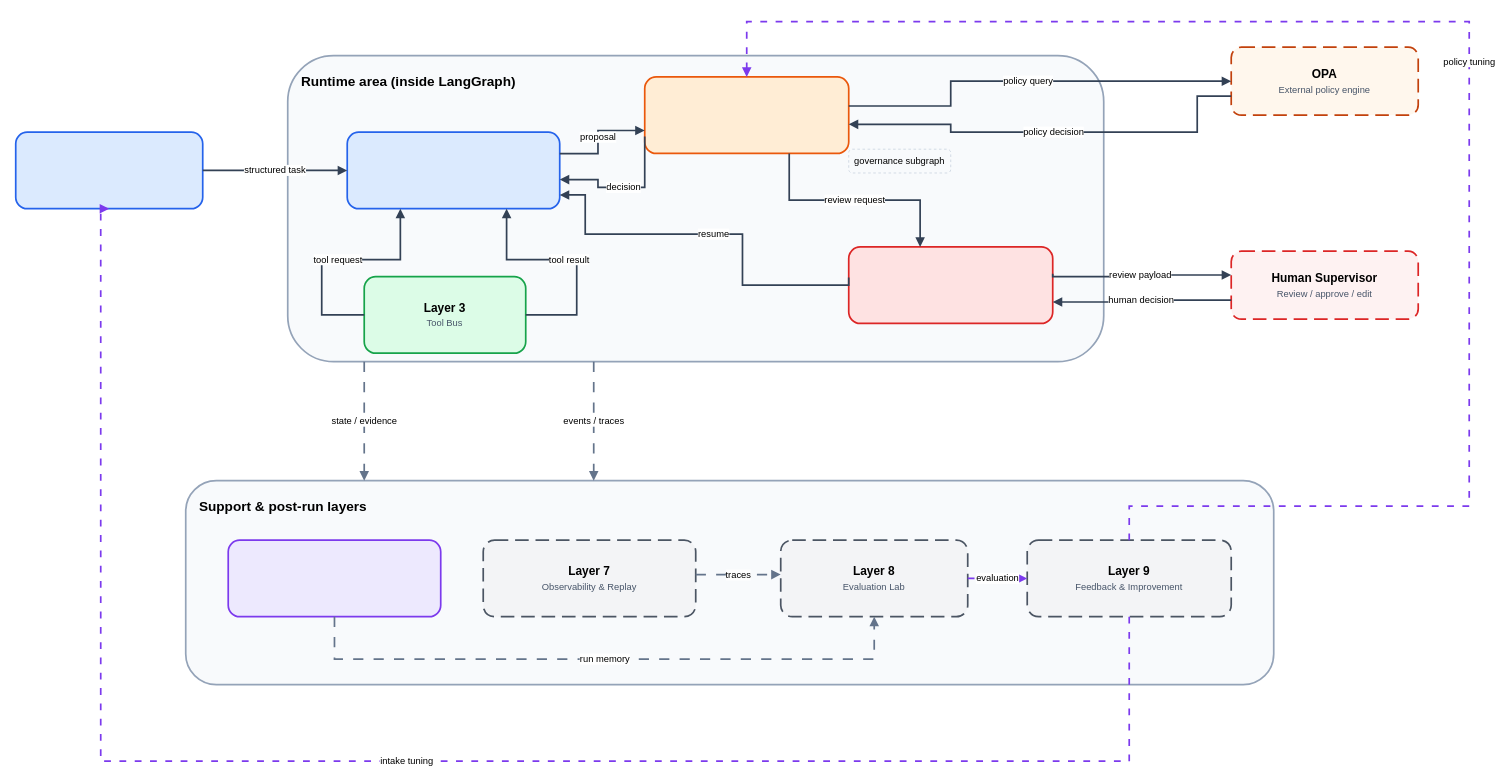
Image size: 1510x783. Some labels were removed from this diagram. Here are the shapes that lost their labels. From the top down, the box of each, then its label:
(643, 76, 849, 154): Layer 4 Oversight Core
(14, 131, 203, 209): Layer 1 Task & Context Intake
(346, 131, 560, 209): Layer 2 Agent Runtime / Orchestrator
(847, 246, 1053, 324): Layer 5 HITL Gateway
(227, 539, 441, 617): Layer 6 Memory & Evidence Store
